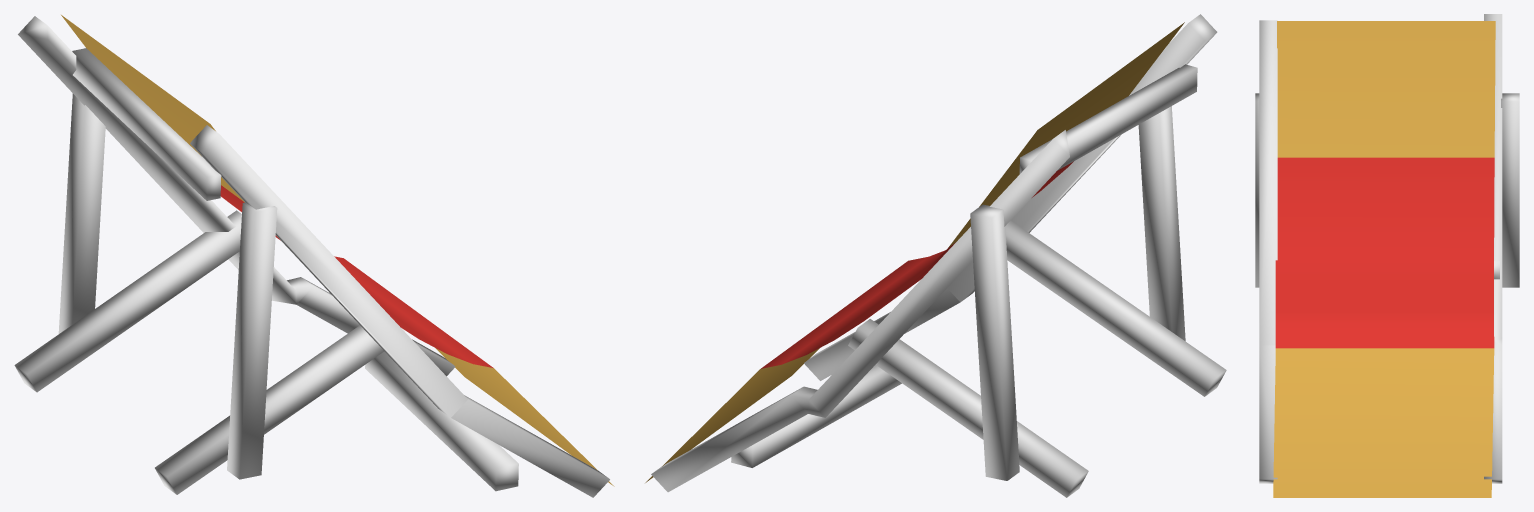
The model's file is kursi pantai.fbx.
3 views of the same model, side by side, from view 1: azimuth 30°, elevation 25°; view 2: azimuth 150°, elevation 25°; view 3: azimuth 270°, elevation 25° (orthographic). The views are drawn at different scales.
Visible parts, largest first — view 1: Cube.002, Cube, Plane, Cube.006, Cube.003, Cube.001, Cube.007, Cube.005, Cube.004; view 2: Cube.003, Plane, Cube.001, Cube.007, Cube, Cube.006, Cube.002, Cube.005, Cube.004; view 3: Plane, Cube.002, Cube.003, Cube.001, Cube.
Part boxes in pixels (<box>): Cube.002: <box>190,125,609,497</box>; Cube: <box>227,202,277,479</box>; Plane: <box>61,15,614,486</box>; Cube.006: <box>14,210,241,392</box>; Cube.003: <box>18,16,455,376</box>; Cube.001: <box>58,93,105,333</box>; Cube.007: <box>155,325,384,494</box>; Cube.005: <box>72,48,221,200</box>; Cube.004: <box>365,351,518,491</box>; Cube.003: <box>651,130,1069,492</box>; Plane: <box>645,22,1184,482</box>; Cube.001: <box>970,204,1019,480</box>; Cube.007: <box>1005,220,1226,396</box>; Cube: <box>1138,106,1185,341</box>; Cube.006: <box>848,319,1088,497</box>; Cube.002: <box>804,14,1217,380</box>; Cube.005: <box>1019,64,1197,173</box>; Cube.004: <box>731,365,901,467</box>; Plane: <box>1273,21,1495,497</box>; Cube.002: <box>1259,20,1277,483</box>; Cube.003: <box>1484,14,1502,483</box>; Cube.001: <box>1501,93,1519,287</box>; Cube: <box>1255,93,1259,287</box>.
Bounding box in the file's own units: 412 × 407 × 291.
